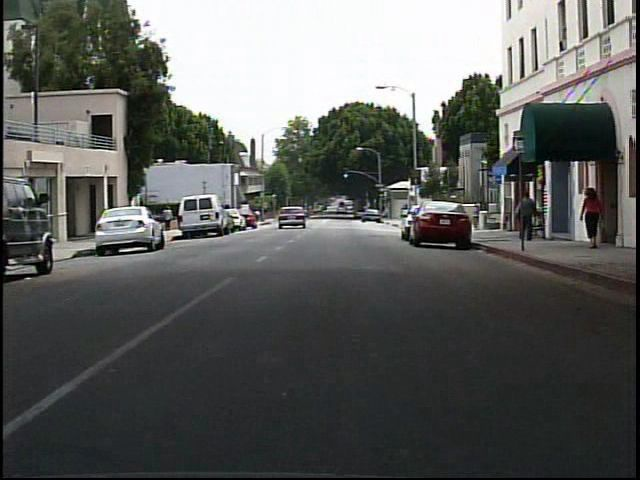person: (576, 188, 607, 249), (512, 190, 540, 243), (162, 202, 177, 233)
